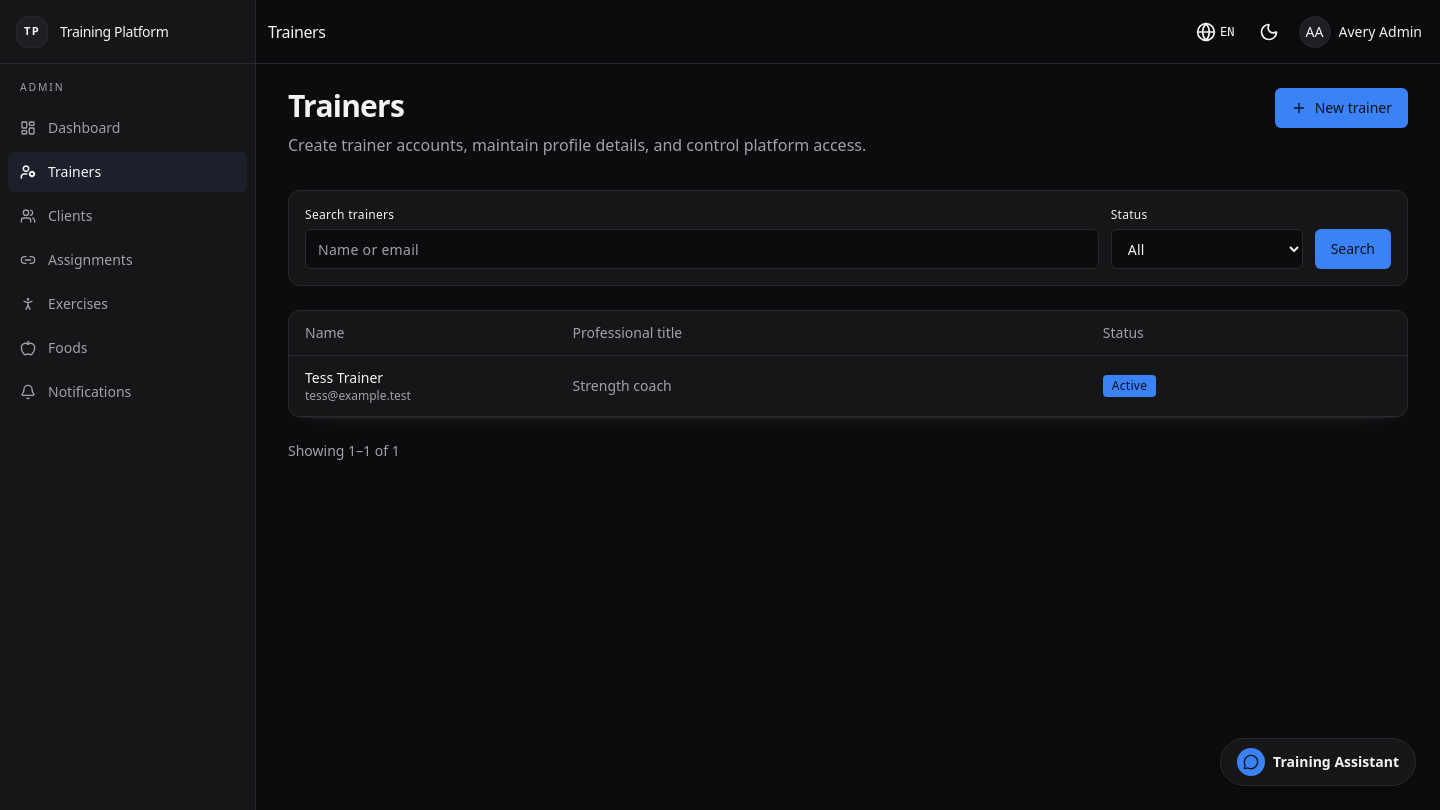
Test case: Admin workspace › trainers › validates inline before sending and marks invalid fields
Expected: the heading "Trainers" is shown, [288,88,404,124]
Click the button "New trainer".
click(1341, 108)  # box [1275,88,1408,128]
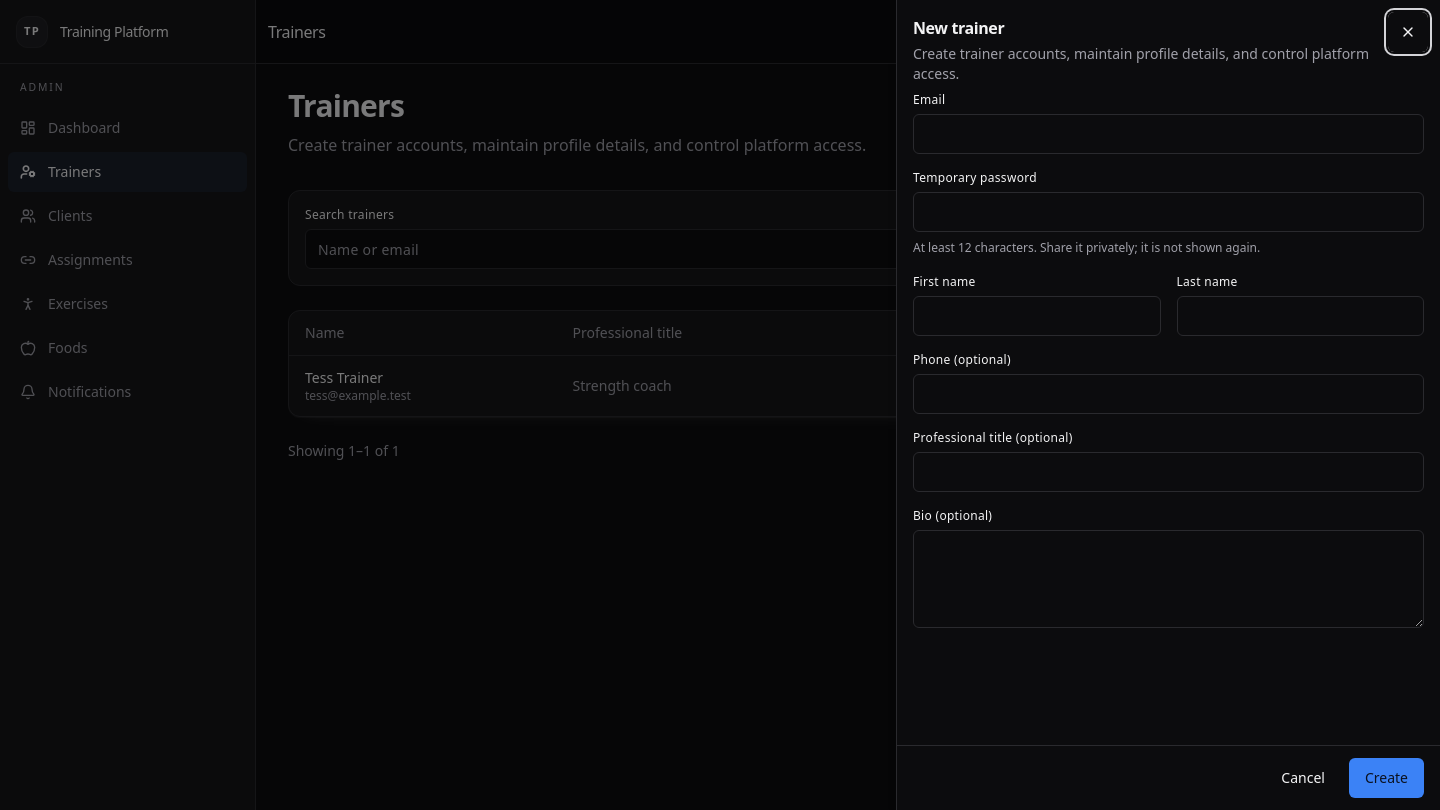
Type "not-an-email" into the field labelled "Email".
click(1168, 134); type("not-an-email")  # box [913,114,1424,154]
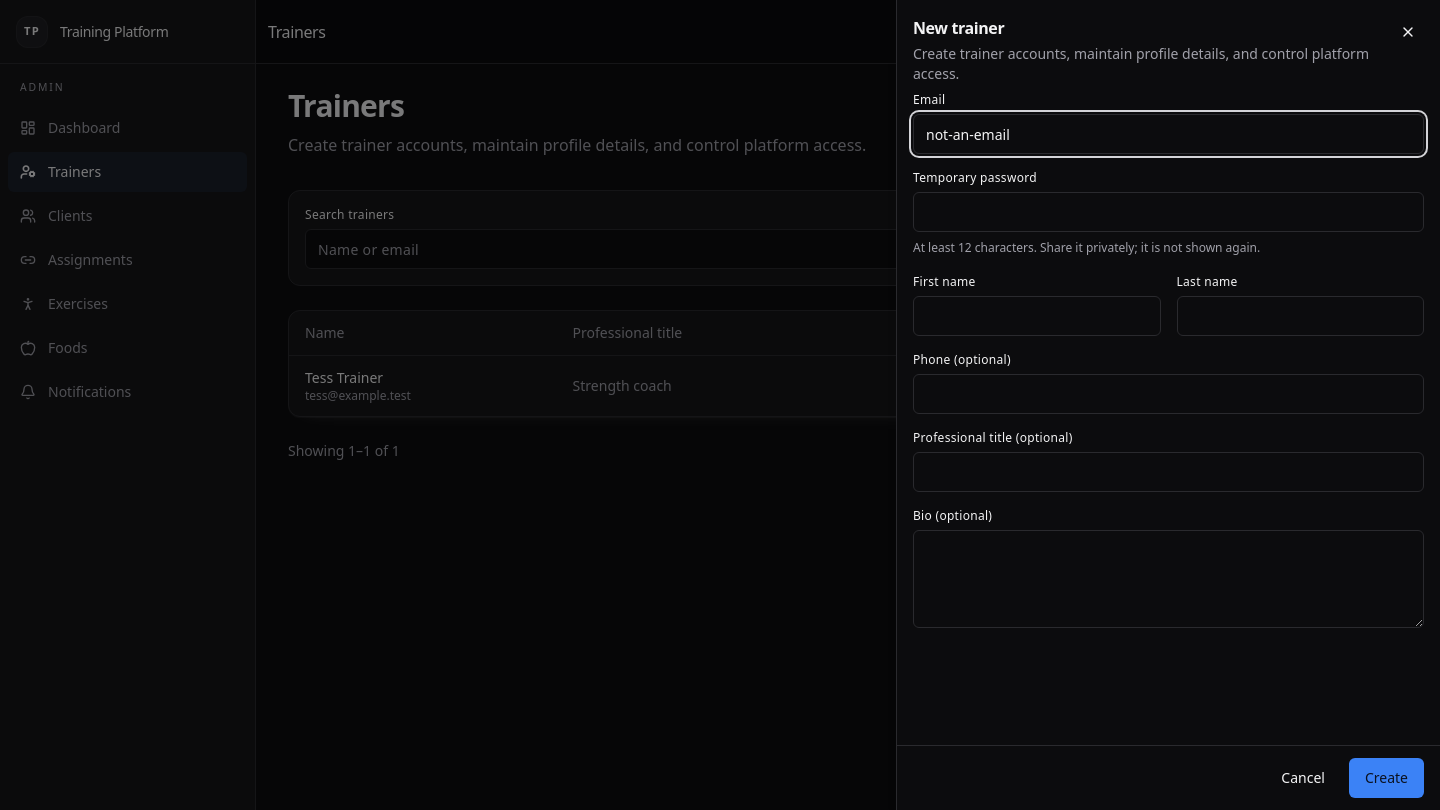
Type "short" into the password field labelled "Temporary password".
click(1168, 212); type("short")  # box [913,192,1424,232]
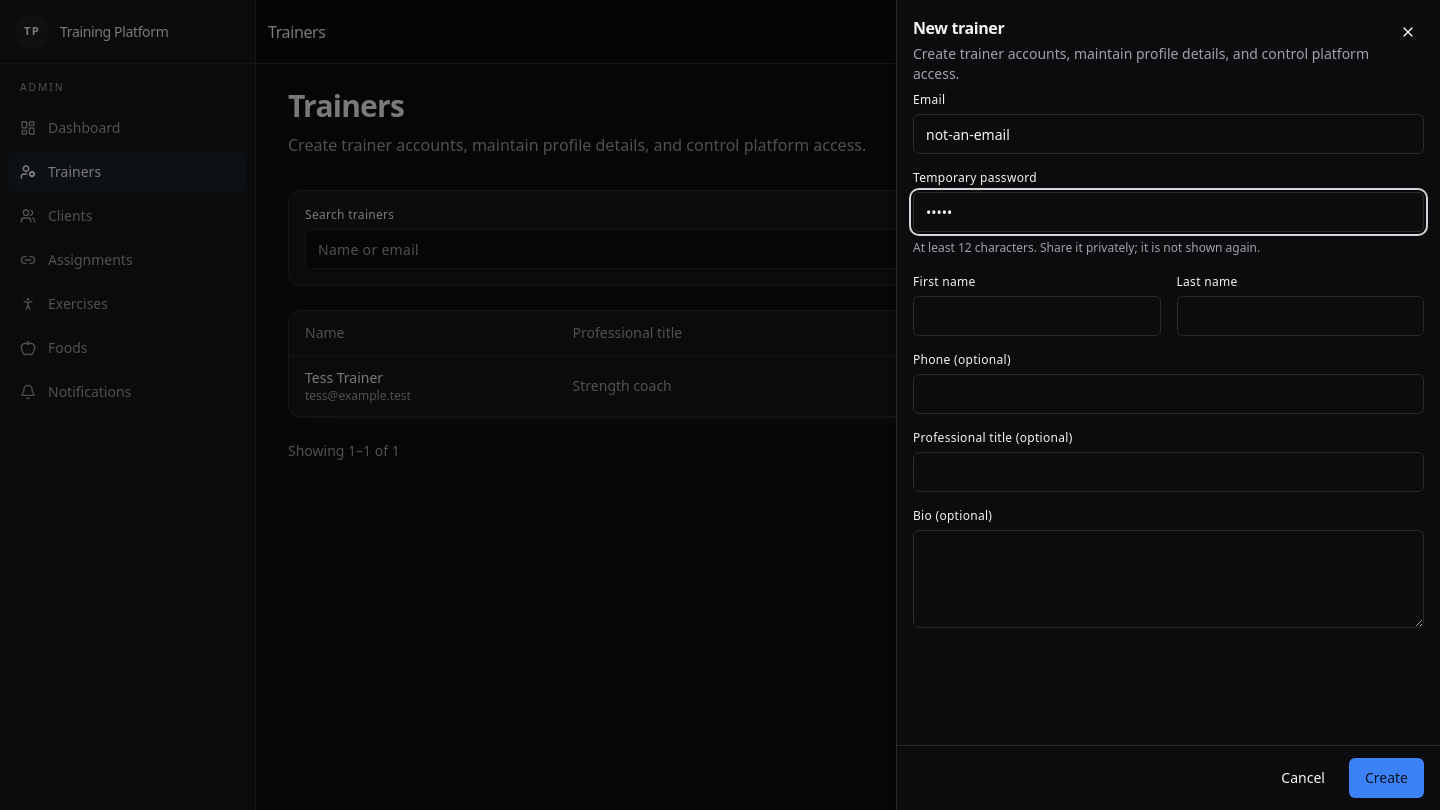
Click the button "Create".
click(1386, 778)  # box [1349,758,1424,798]
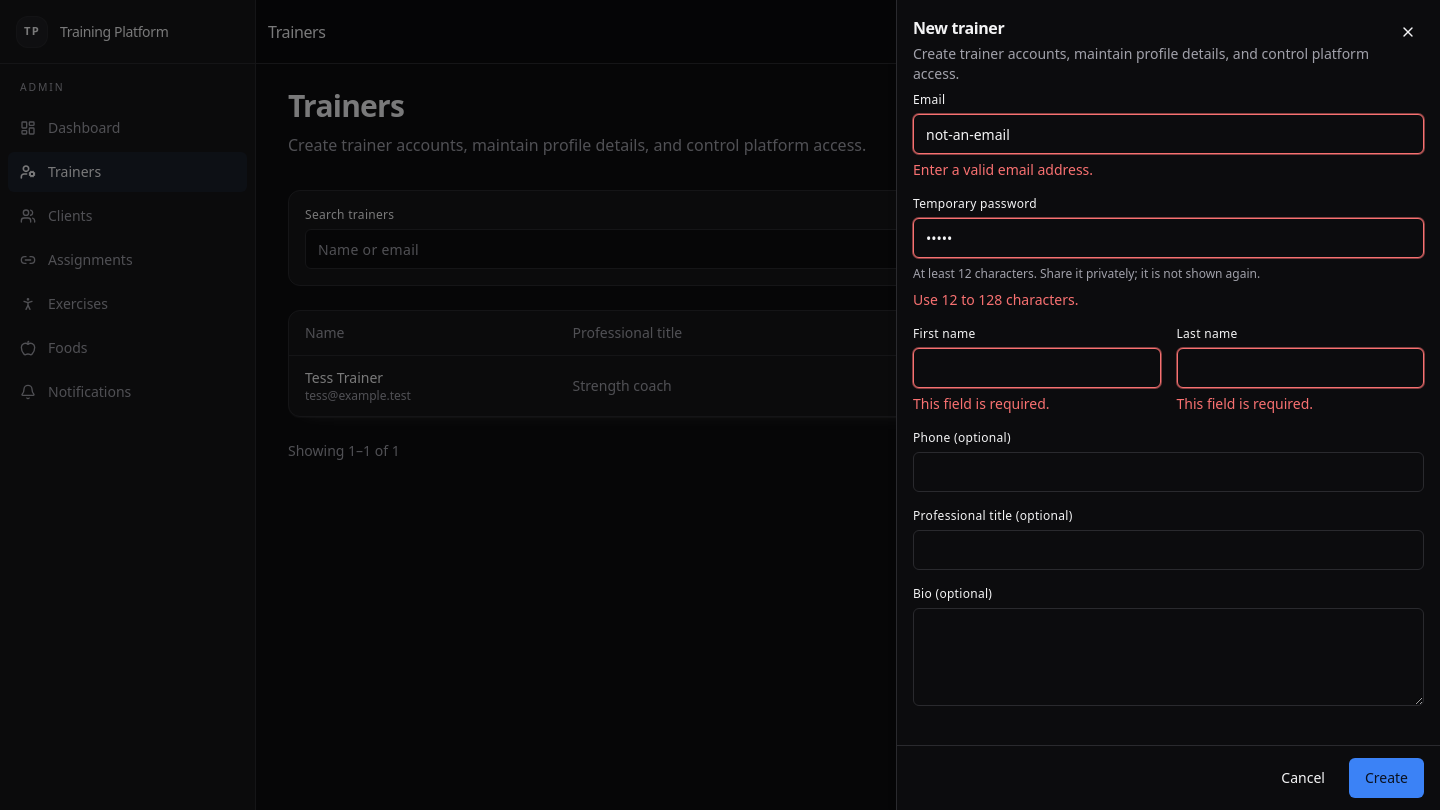
Now the text "Enter a valid email address." is shown, box [913,160,1093,179]
Now the text "Use 12 to 128 characters." is shown, box [913,290,1078,308]
Now the text "This field is required." is shown 2 times, box [913,394,1050,412]; [1176,394,1313,412]
